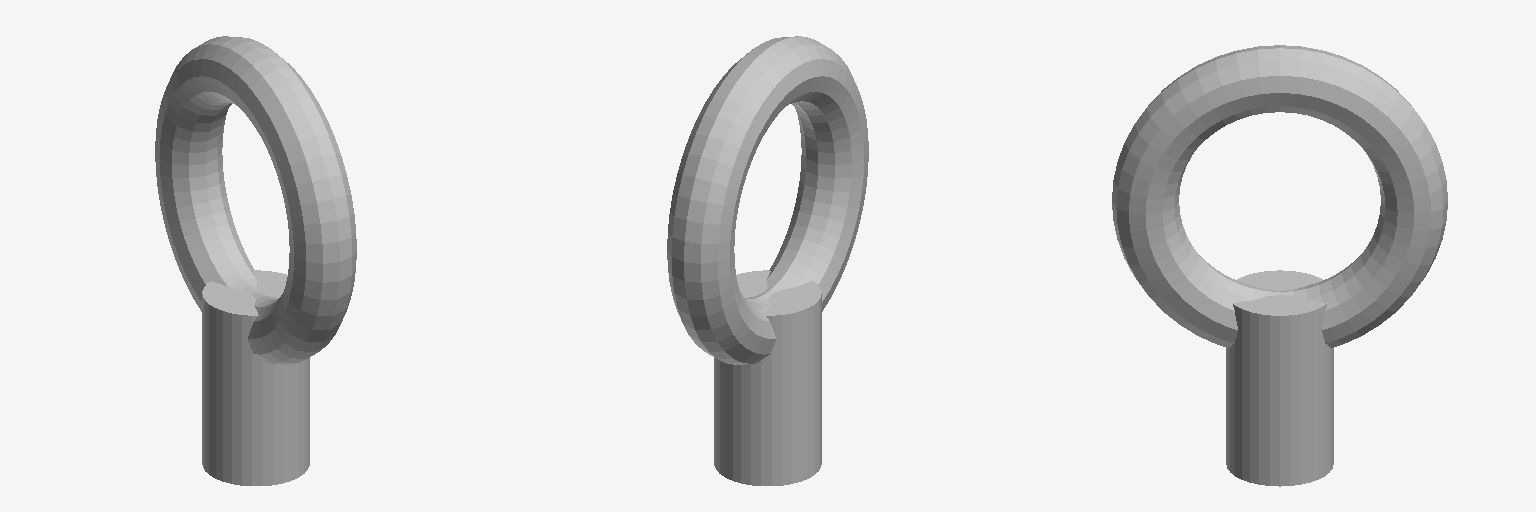
File: blushouder.obj
3 renders of one model, left to right at view 1: azimuth 30°, elevation 25°; view 2: azimuth 150°, elevation 25°; view 3: azimuth 270°, elevation 25°, orthographic.
Parts seen in each view (by area): view 1: Torus, Cylinder; view 2: Torus, Cylinder; view 3: Torus, Cylinder.
Boxes of the visible parts, box(x1,y1,x2,y2) form: Torus: box(155, 36, 356, 364); Cylinder: box(202, 270, 309, 485); Torus: box(667, 36, 868, 364); Cylinder: box(714, 270, 821, 485); Torus: box(1112, 45, 1447, 347); Cylinder: box(1226, 270, 1333, 486).
Size of the model in its own units: 0.8 by 3.41 by 2.5.